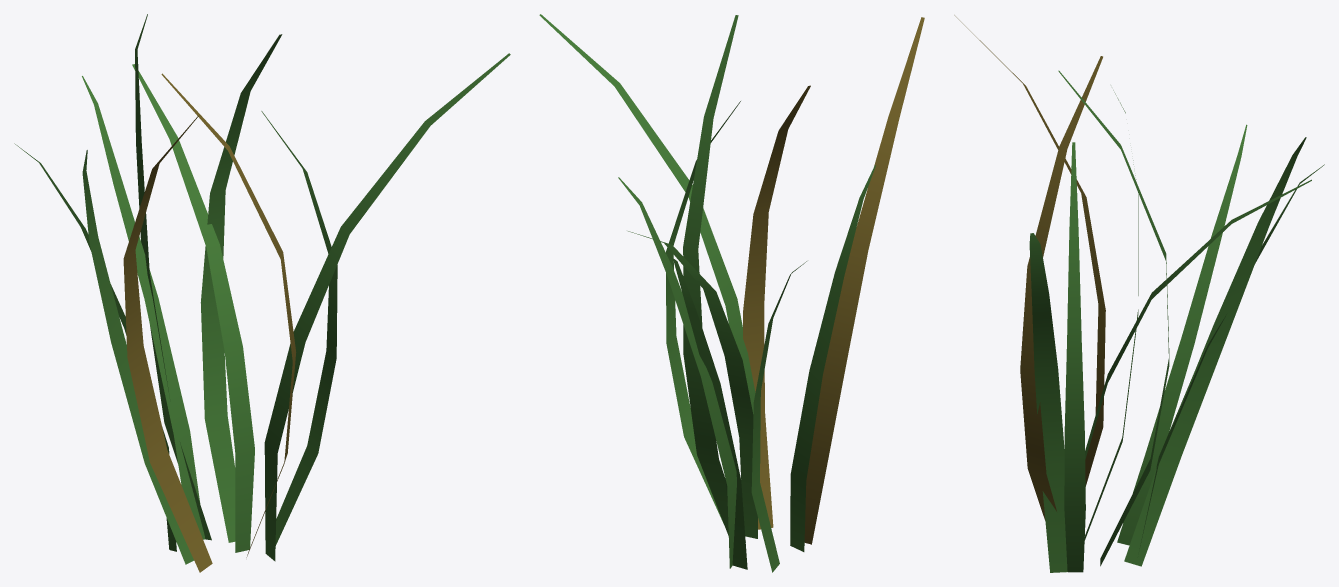
The model's file is Leaves_001.fbx.
The picture shows the model from 3 angles, left to right: view 1: azimuth 30°, elevation 25°; view 2: azimuth 150°, elevation 25°; view 3: azimuth 270°, elevation 25°; orthographic projection. The views are drawn at different scales.
Parts seen in each view (by area): view 1: Leaves.001; view 2: Leaves.001; view 3: Leaves.001.
Part boxes in pixels (x1,y1,x2,y2): Leaves.001: [14, 14, 510, 572]; Leaves.001: [539, 14, 924, 572]; Leaves.001: [954, 15, 1324, 572].
Size of the model in its own units: 22.36 by 29.25 by 19.22.
